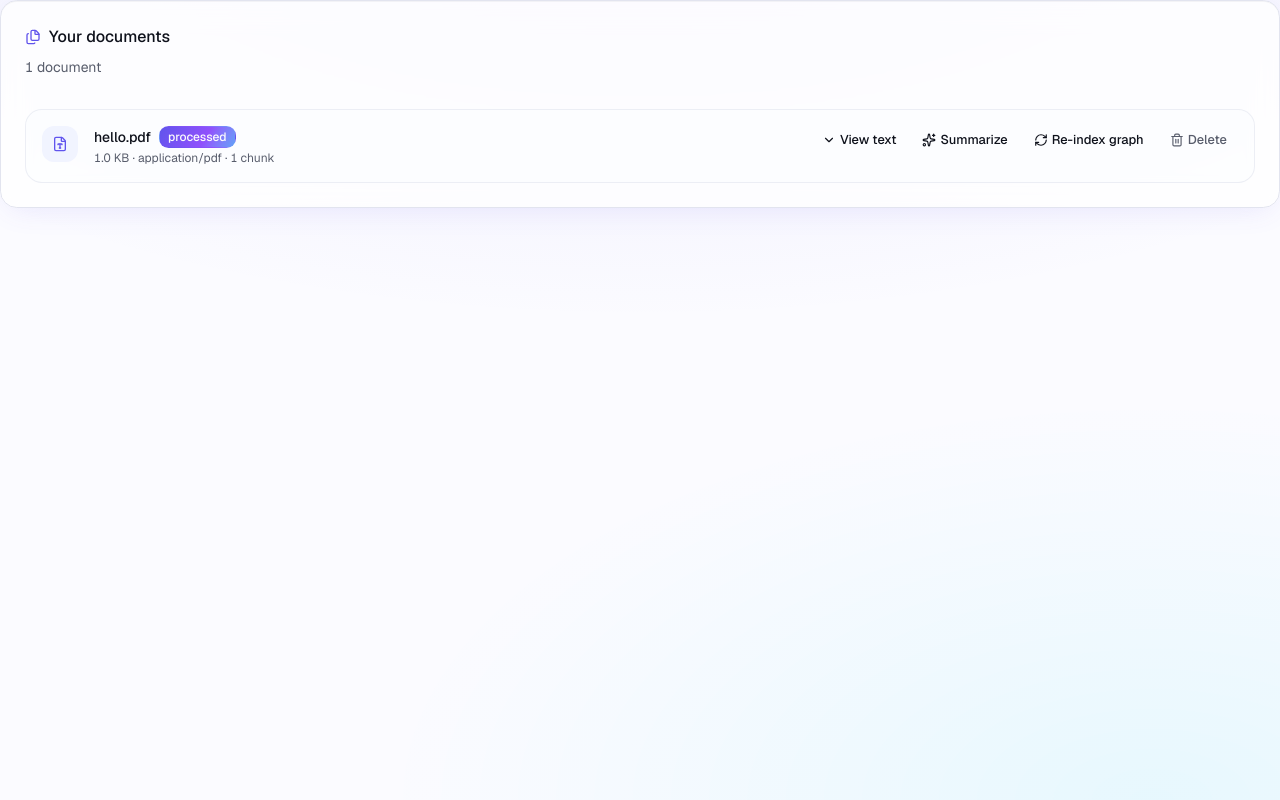
Test: <DocumentsList /> › document summary › clicking 'Summarize' POSTs the resummarize endpoint and shows status
Click the button with test id "summarize-button" at (965, 140), box left=912, top=126, right=1019, bottom=154
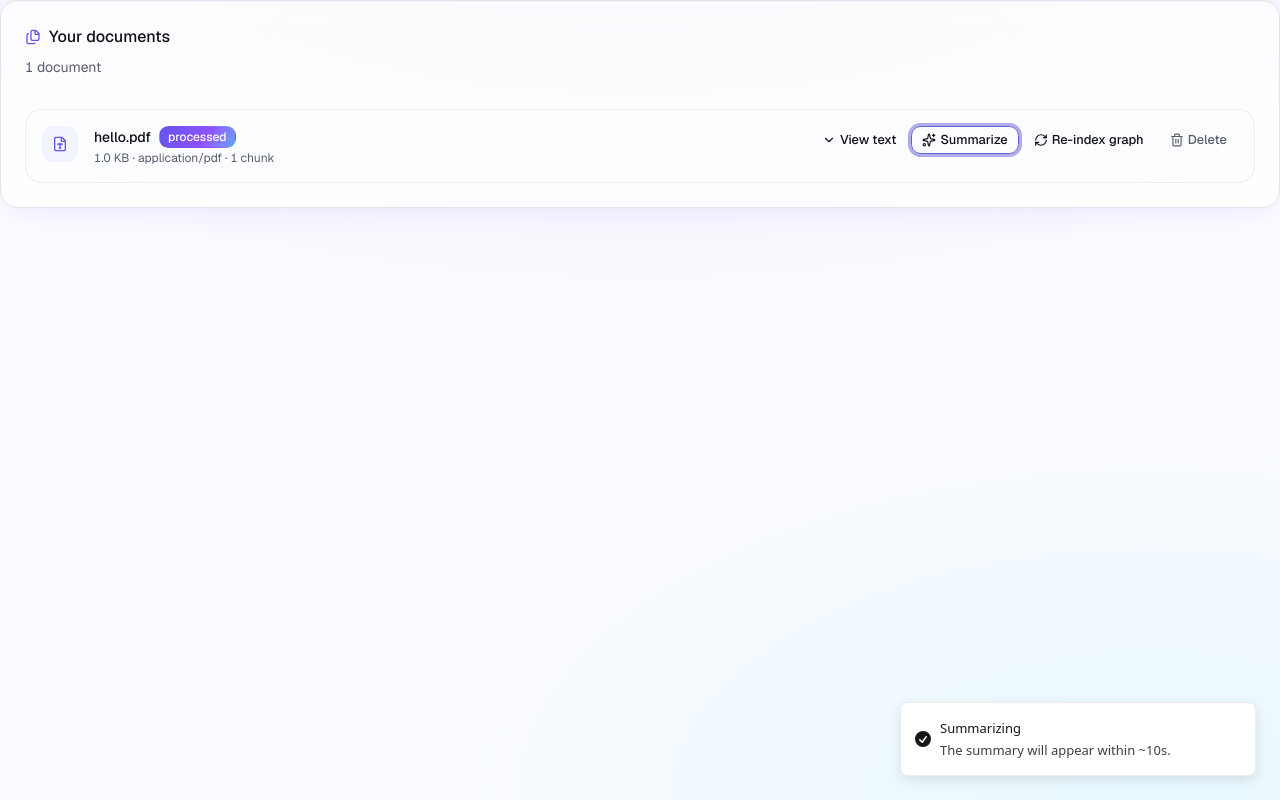
Result: the text "Summarizing" is shown at left=940, top=719, right=1021, bottom=737
